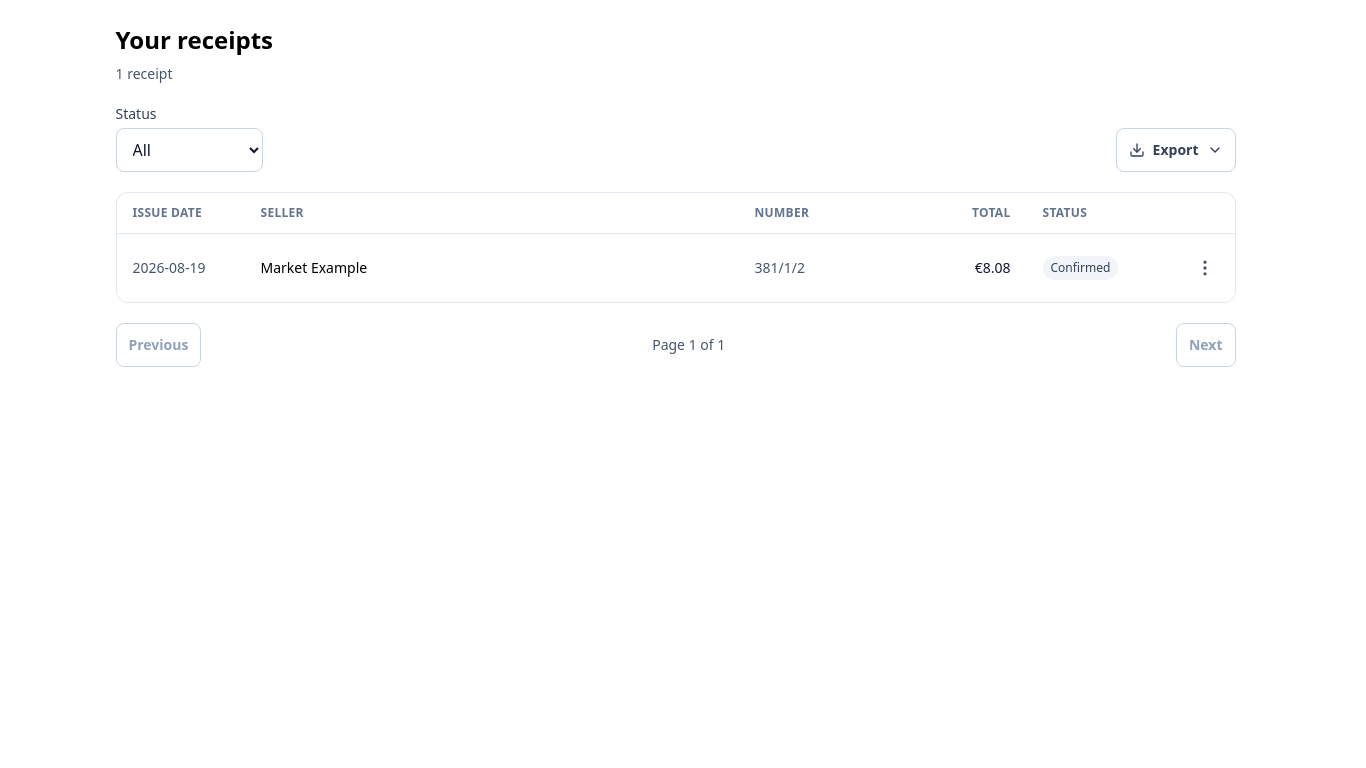
HistoryPage › keeps the receipt when the delete dialog is dismissed
Click the button named "Actions for Market Example" at (1204, 268), box [1182,246,1226,290]
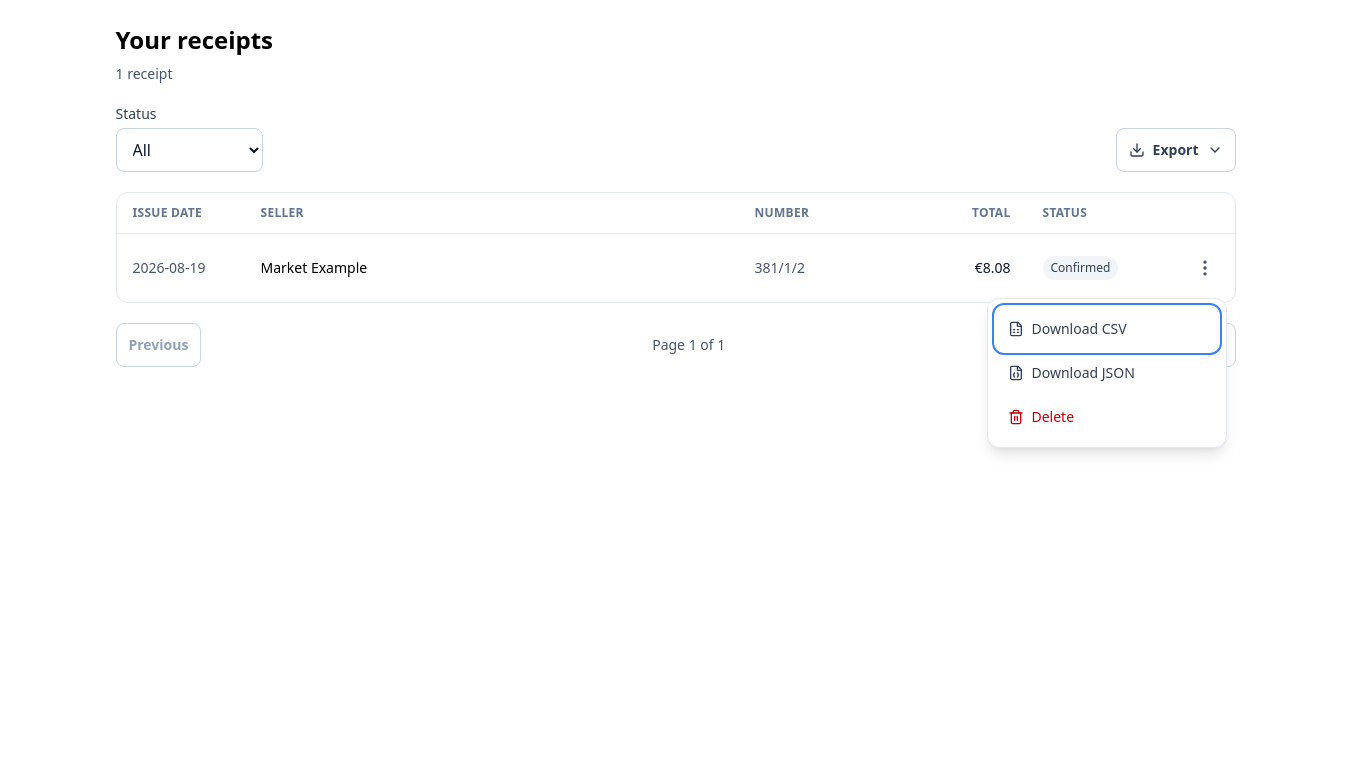
Click the button "Delete" at (1106, 417), box [996,395,1218,439]
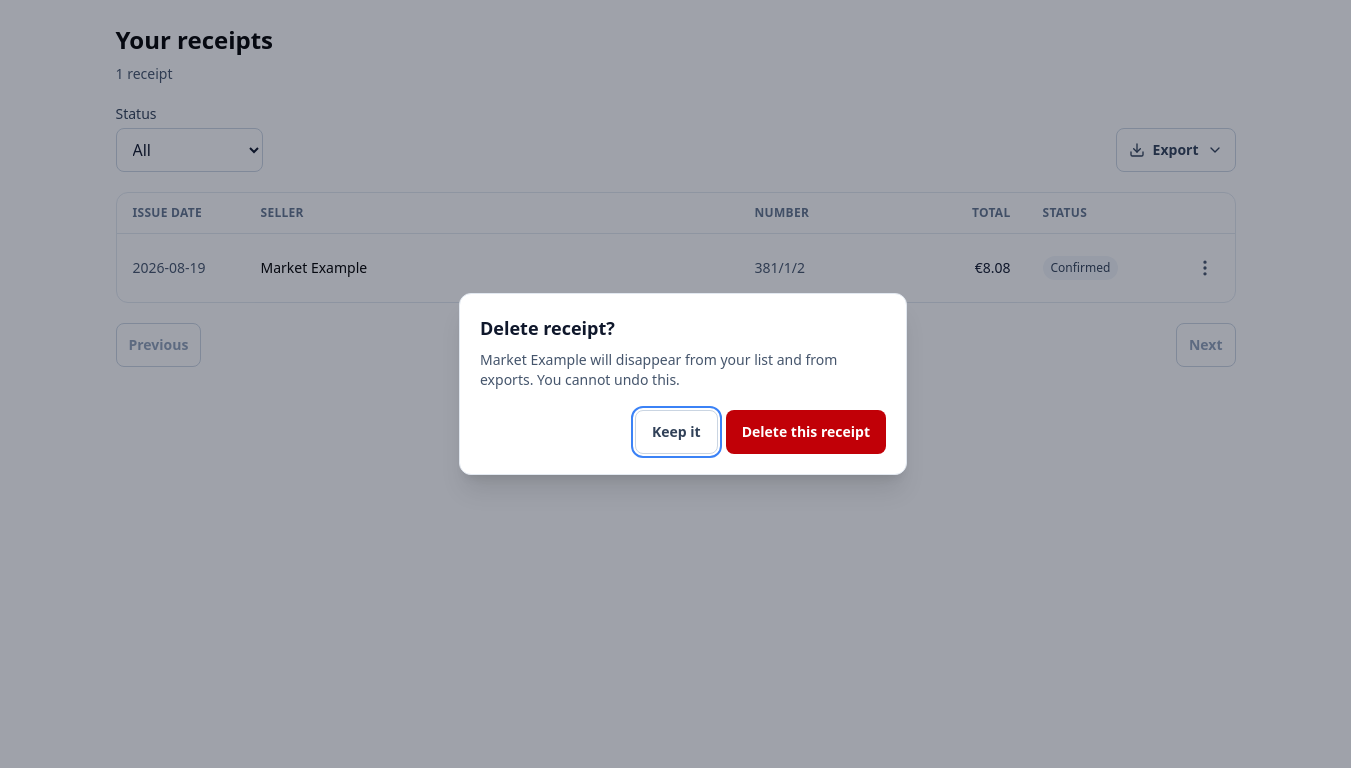
Click the button "Keep it" at (676, 432), box [635,410,718,454]
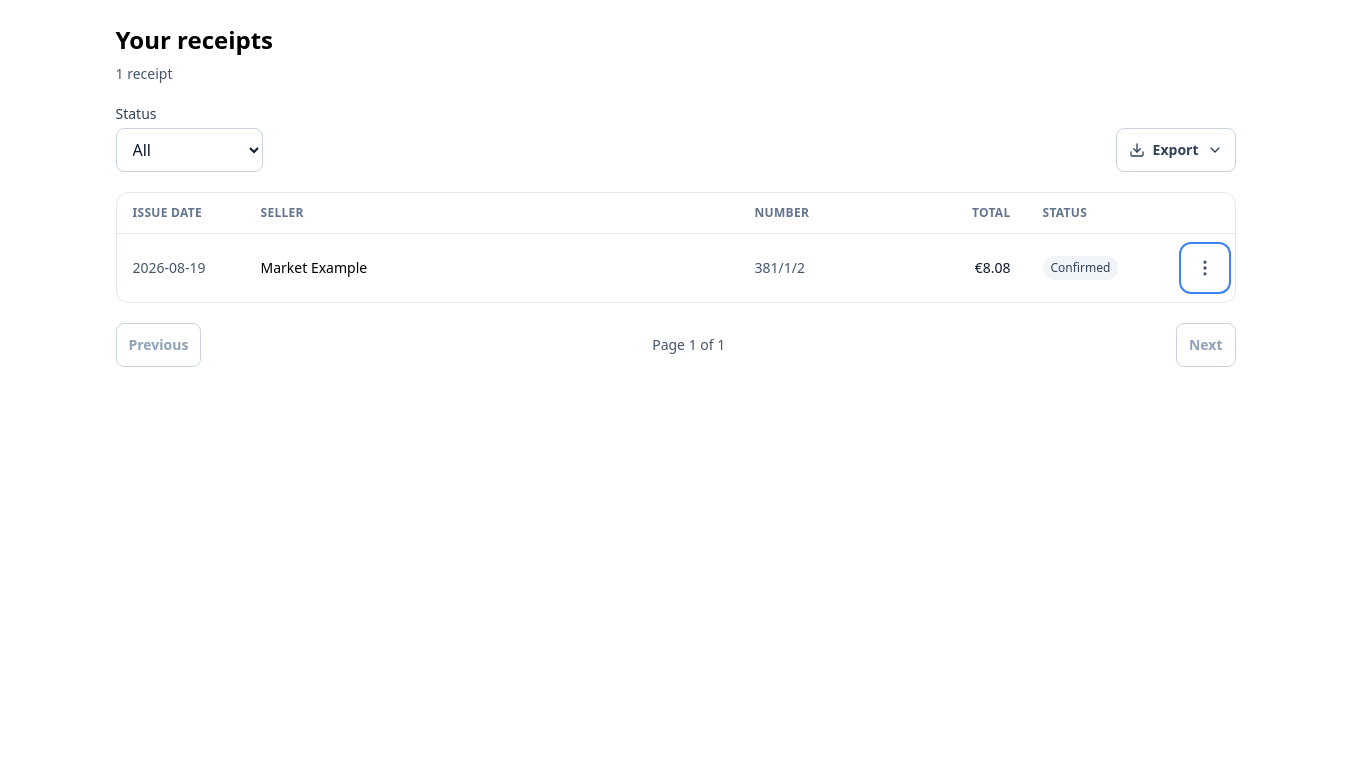
Expected: the dialog is gone
